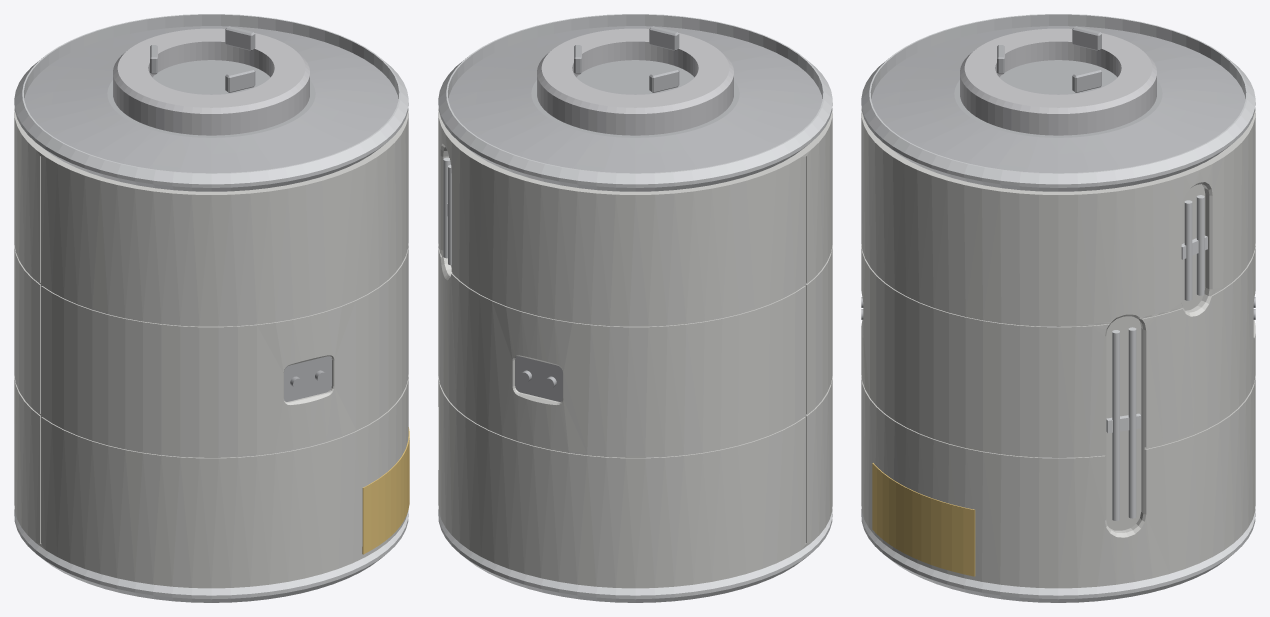
The model's file is ax_tank_15_cryo_transfer.glb.
The picture shows the model from 3 angles, left to right: view 1: azimuth 30°, elevation 25°; view 2: azimuth 150°, elevation 25°; view 3: azimuth 270°, elevation 25°; orthographic projection.
Visible parts, largest first — view 1: tank_barrel, port_adapters, end_rings, docking_port_top, mli_patch, docking_port_top_hatch, transfer_umbilicals, docking_port_top_petals; view 2: tank_barrel, port_adapters, end_rings, docking_port_top, docking_port_top_hatch, transfer_umbilicals, docking_port_top_petals, raceway_lines; view 3: tank_barrel, port_adapters, end_rings, docking_port_top, mli_patch, raceway_lines, docking_port_top_hatch, docking_port_top_petals.
Part boxes in pixels (x1,y1,x2,y2): tank_barrel: (14, 109, 408, 588); port_adapters: (24, 26, 398, 173); end_rings: (14, 14, 408, 602); docking_port_top: (113, 28, 309, 135); mli_patch: (362, 427, 409, 554); docking_port_top_hatch: (152, 60, 270, 94); transfer_umbilicals: (284, 356, 331, 401); docking_port_top_petals: (150, 26, 255, 92); tank_barrel: (438, 108, 832, 588); port_adapters: (448, 26, 822, 173); end_rings: (438, 14, 832, 602); docking_port_top: (537, 28, 733, 135); docking_port_top_hatch: (576, 60, 694, 94); transfer_umbilicals: (515, 356, 562, 401); docking_port_top_petals: (574, 26, 679, 92); raceway_lines: (443, 157, 451, 265); tank_barrel: (861, 109, 1255, 588); port_adapters: (871, 26, 1245, 173); end_rings: (861, 14, 1255, 602); docking_port_top: (960, 28, 1156, 135); mli_patch: (872, 463, 975, 576); raceway_lines: (1106, 195, 1207, 520); docking_port_top_hatch: (999, 60, 1117, 94); docking_port_top_petals: (997, 26, 1101, 92).
Size of the model in its own units: 2.5 by 3.6 by 2.5.
